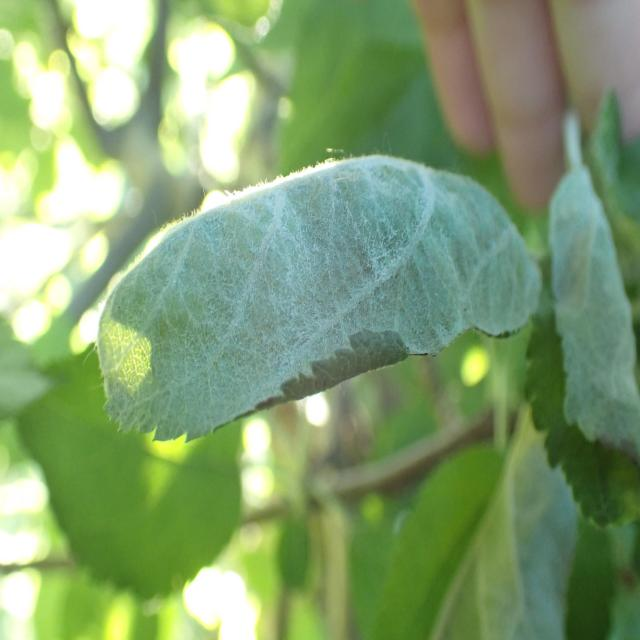Powdery_mildew: (102, 154, 534, 444), (542, 148, 640, 471)
